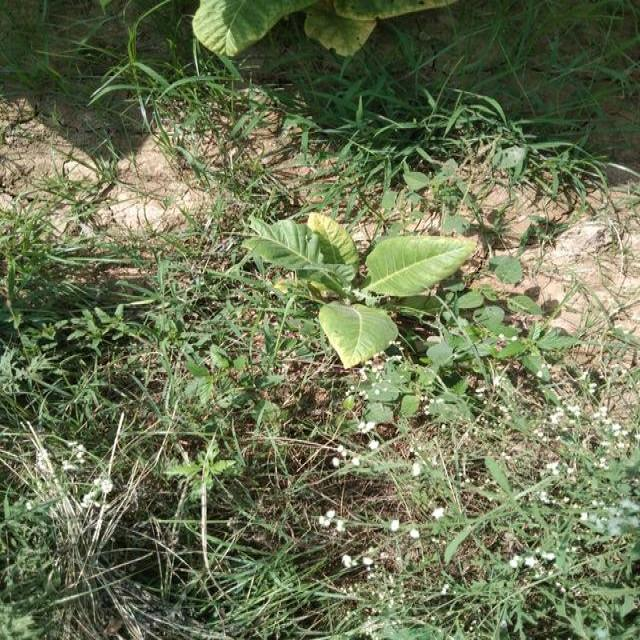crop: (256, 211, 470, 371)
